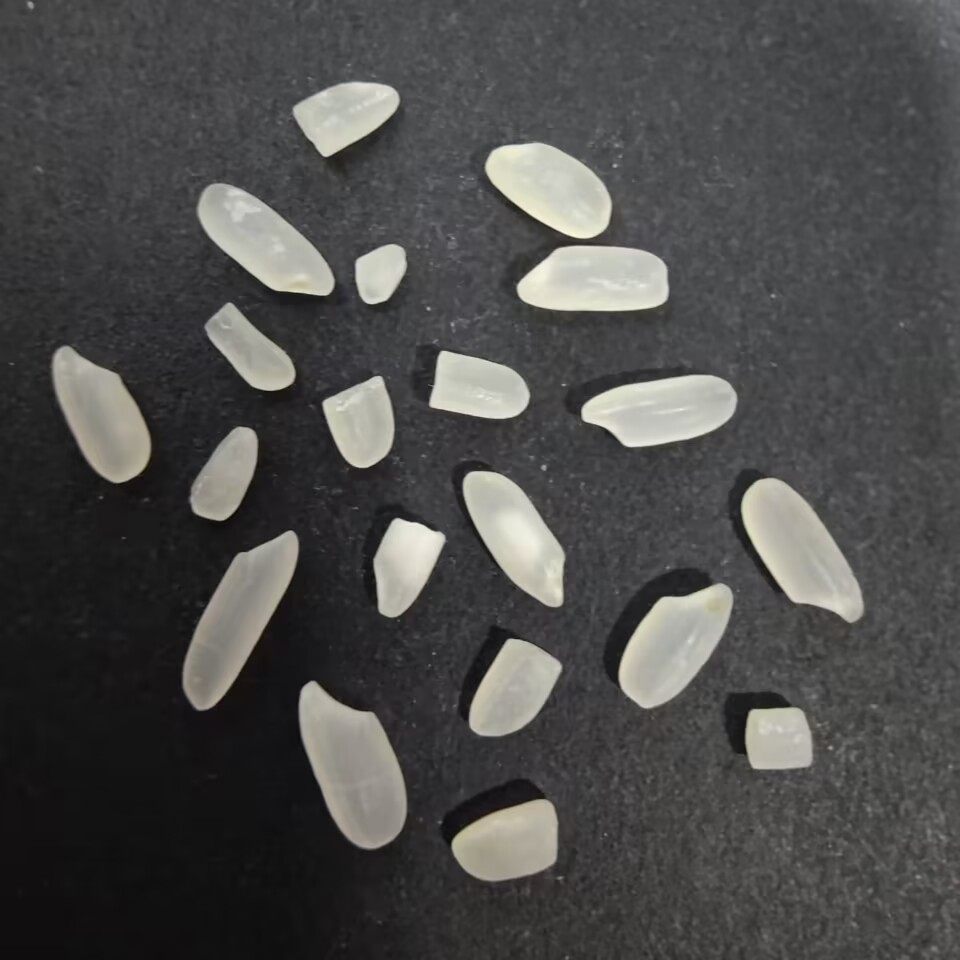broken: (460, 633, 573, 738), (442, 796, 565, 885), (289, 75, 402, 163), (194, 299, 299, 393), (364, 512, 452, 624), (426, 340, 536, 427), (315, 370, 402, 475), (185, 422, 262, 527), (736, 700, 824, 779), (349, 240, 412, 313)
rice: (176, 526, 302, 714), (734, 471, 869, 627), (295, 676, 407, 854), (196, 177, 345, 306), (457, 464, 575, 613), (609, 577, 737, 714), (46, 340, 154, 489), (480, 135, 617, 240), (575, 369, 739, 451), (510, 240, 677, 315)
